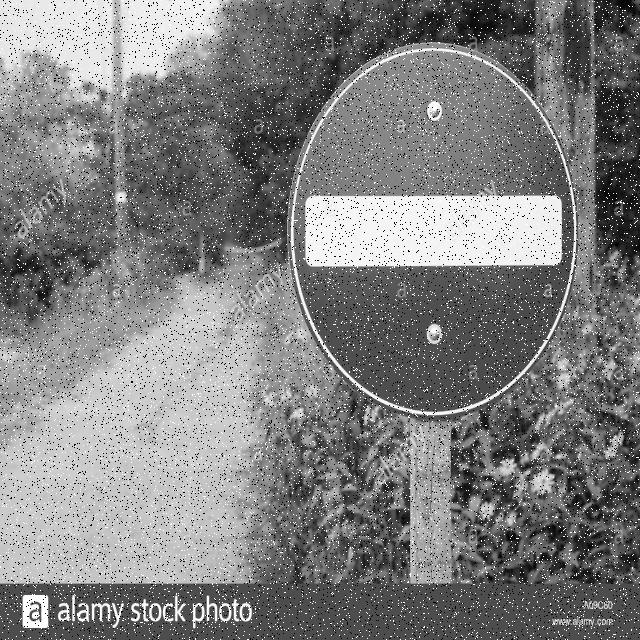no entry: (289, 43, 576, 422)
